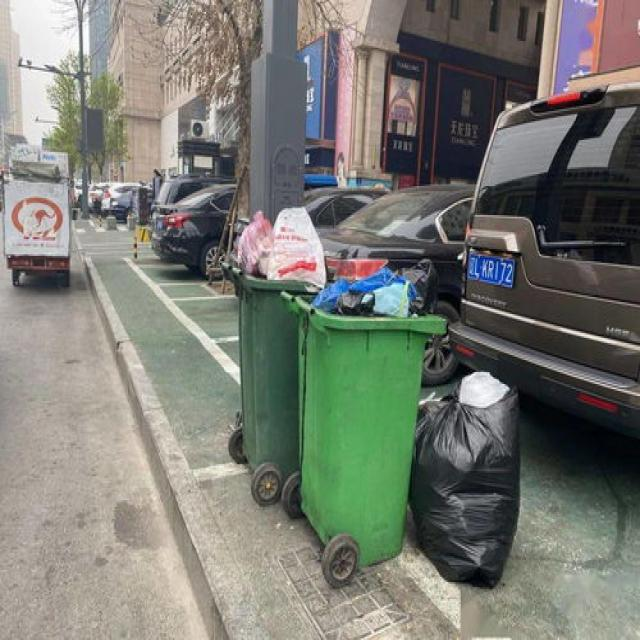garbage: (407, 369, 518, 587)
overflow: (280, 256, 446, 563), (220, 205, 324, 480)
